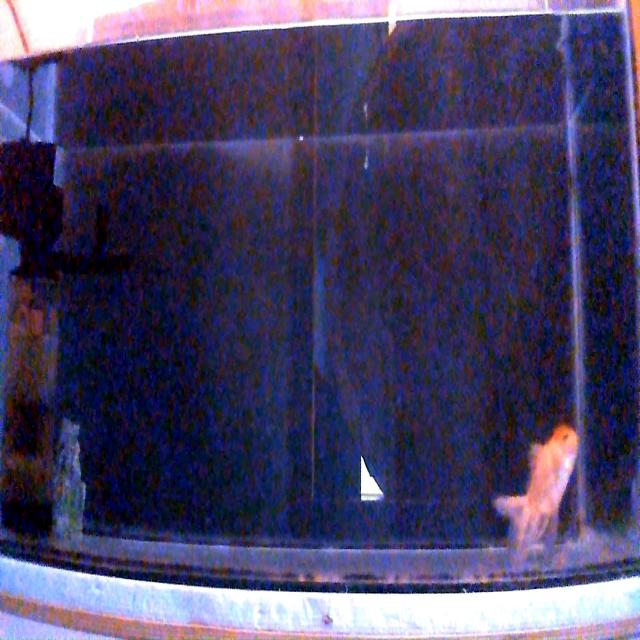fish: (493, 421, 579, 557)
